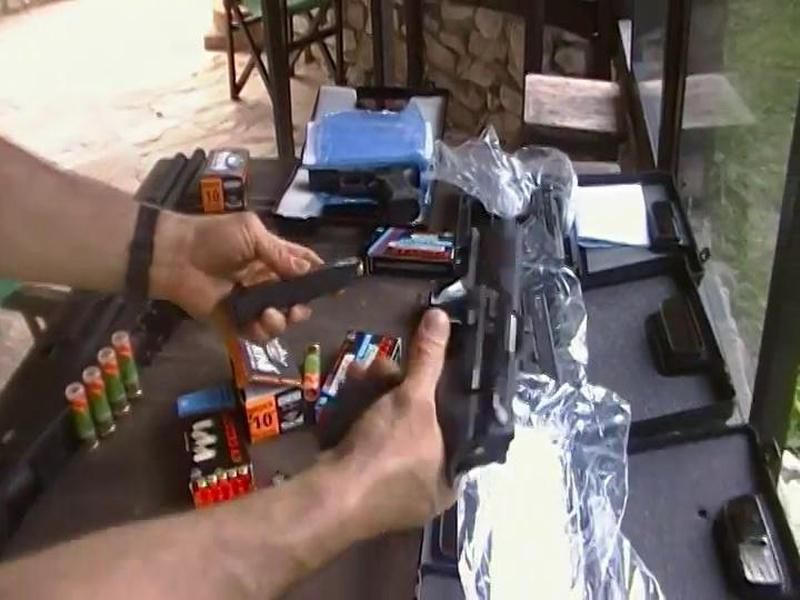Pistola: (323, 200, 546, 487)
